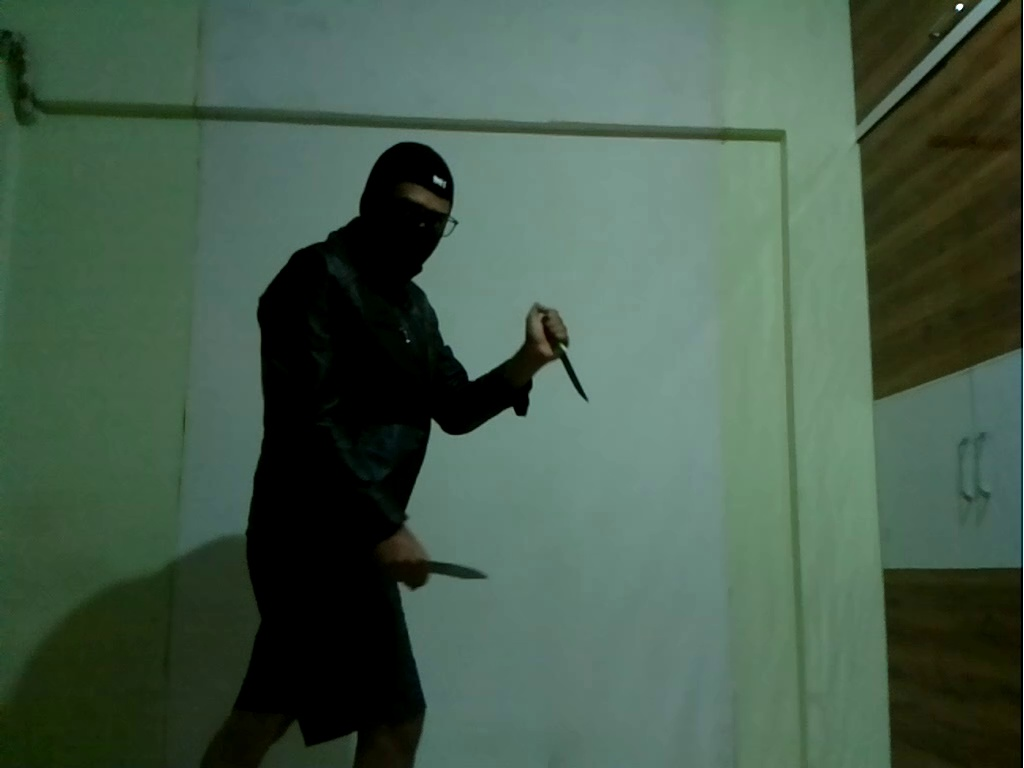knife: (551, 341, 589, 406), (420, 559, 489, 582)
